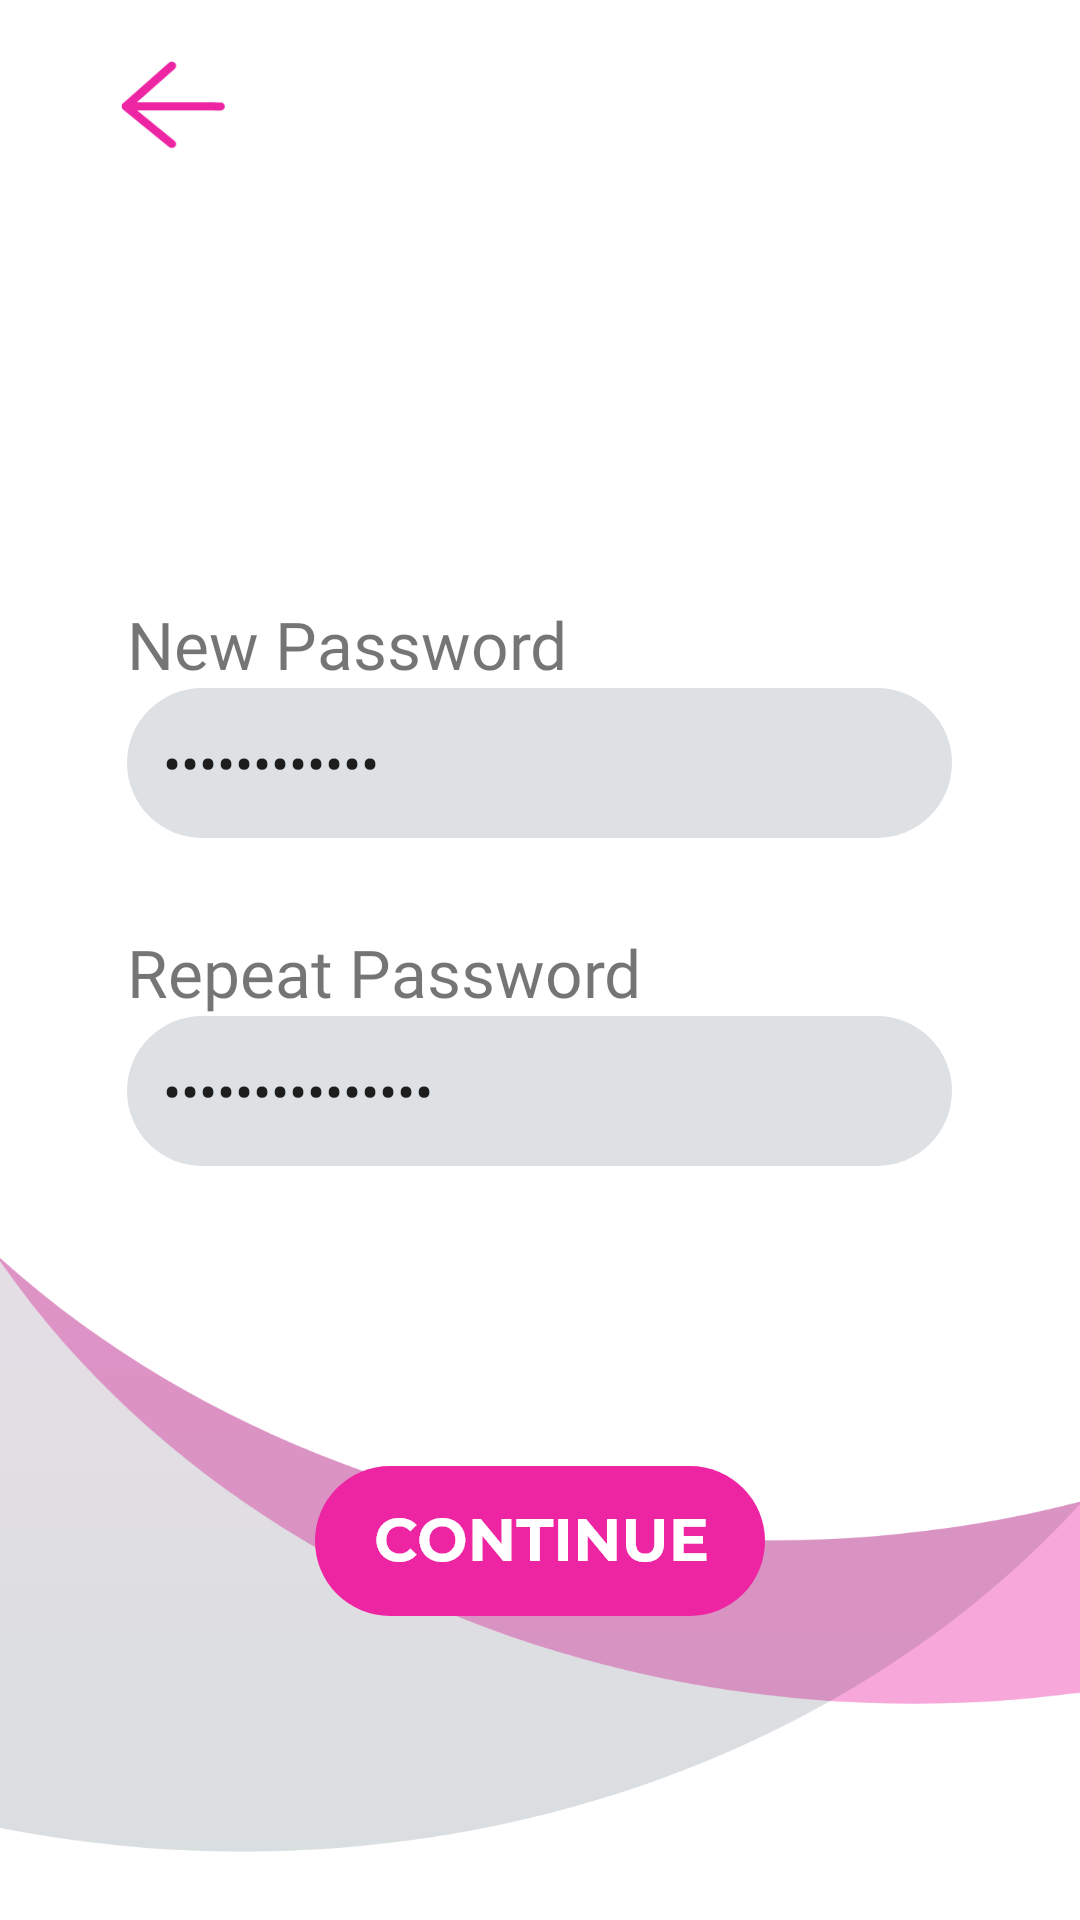

Point at icon controls on the screen. Image size 1080x1920, points as [x,y].
back: [173,104]
